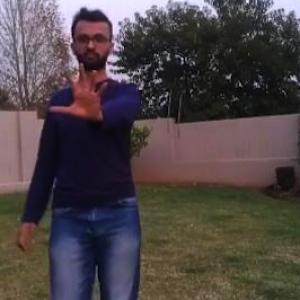follow_hand: (47, 55, 112, 122)
